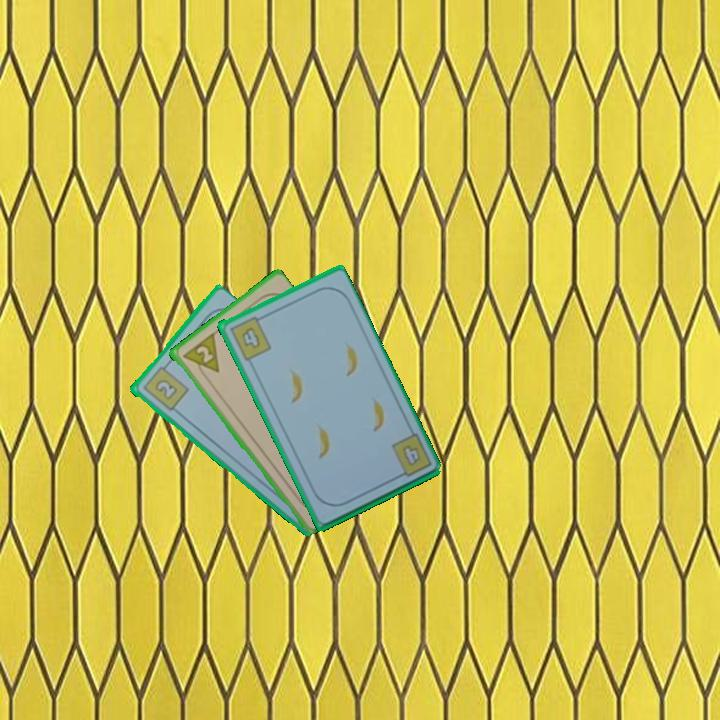2b: (139, 359, 191, 414)
2p: (178, 330, 222, 383)
4b: (226, 312, 274, 363), (387, 430, 434, 481)
